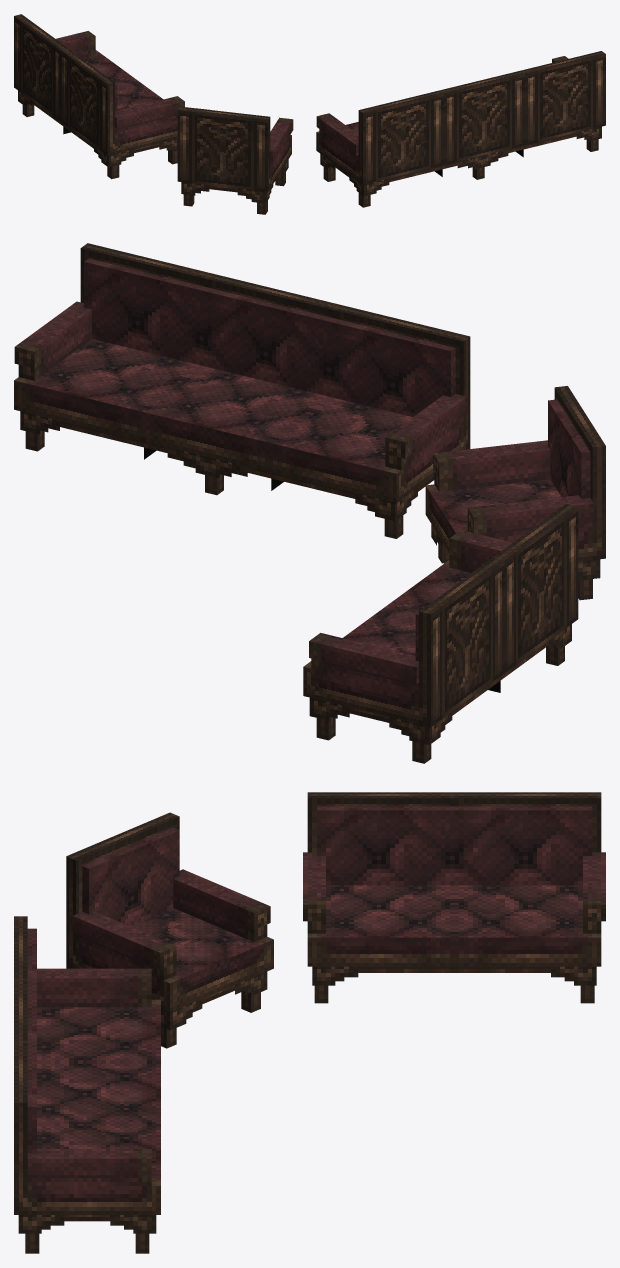
Rendered from antique_sofa.glb.
3 renders of one model, top to bottom at view 1: azimuth 30°, elevation 25°; view 2: azimuth 150°, elevation 25°; view 3: azimuth 270°, elevation 25°, orthographic. The views are drawn at different scales.
Parts seen in each view (by area): view 1: 6562eac3-8154-1e49-b262-1270529d0826_50, e2101837-5d9e-a3ac-9dd2-b4e75442bbab_23, 4eec5e98-ac9b-b999-b0b7-edd431b1ed05_40, 3c0e7e02-0666-183e-4b64-8a6c14ed690b_31, 1be15eaa-75be-9704-3bb4-f8ef53a918b7_5, 63edc0d0-5b0a-4a4c-43c2-24879114f62d_14, 893d6dfb-d45e-71c0-93e0-53b6f16a95af_6, 66ec53b0-9a2c-44aa-a571-0df395dfbb85_1, 5c201de3-8463-67f6-f706-b30159315af5_24, 6faef137-6ee9-64b8-39de-1000c4c6073c_19, b5054ddc-b1f3-3021-6fe4-26bd0a59a85b_44, b28e0ed2-6f99-8a0b-aa86-9a9b8f29d5e2_18 (+9 smaller); view 2: 3f0e8d56-cee6-ac99-dda2-36852af470f4_32, 5c201de3-8463-67f6-f706-b30159315af5_24, 11632f7a-37ba-4cd2-84d7-879c34fac159_41, 63edc0d0-5b0a-4a4c-43c2-24879114f62d_14, 1be15eaa-75be-9704-3bb4-f8ef53a918b7_5, d99f51fd-d483-47c9-8a18-31810df4f9fc_30, 2465d9fe-d4ac-6c7d-3af9-de3cc6857ad6_39, addd088b-f837-18d7-d043-6519ff9a9649_22, 712bf9bf-9a51-a01e-6526-e3faf94f44e4_15, ae79b2a6-8707-043b-dca4-b701e95d2f50_51, e2101837-5d9e-a3ac-9dd2-b4e75442bbab_23, bc3b2075-ae56-94e1-d523-c39ddb81b184_45 (+22 smaller); view 3: 893d6dfb-d45e-71c0-93e0-53b6f16a95af_6, 712bf9bf-9a51-a01e-6526-e3faf94f44e4_15, 1abdc5d6-72c6-7824-3d72-472f0ac5d846_13, 1c35ec67-7779-8615-569e-4d0efb87b9f5_4, ae79b2a6-8707-043b-dca4-b701e95d2f50_51, 3f0e8d56-cee6-ac99-dda2-36852af470f4_32, 11632f7a-37ba-4cd2-84d7-879c34fac159_41, 5c201de3-8463-67f6-f706-b30159315af5_24, b771599d-f0b3-f3ca-a718-5c6663e5add1_49, 1dd836f5-5c30-e70c-b2cf-ea8972dd789c_36, 6562eac3-8154-1e49-b262-1270529d0826_50, 6faef137-6ee9-64b8-39de-1000c4c6073c_19 (+20 smaller).
Boxes of the visible parts, bbox=[...] form: 6562eac3-8154-1e49-b262-1270529d0826_50: bbox=[177, 106, 270, 191]; e2101837-5d9e-a3ac-9dd2-b4e75442bbab_23: bbox=[358, 90, 443, 184]; 4eec5e98-ac9b-b999-b0b7-edd431b1ed05_40: bbox=[521, 51, 605, 145]; 3c0e7e02-0666-183e-4b64-8a6c14ed690b_31: bbox=[440, 70, 524, 164]; 1be15eaa-75be-9704-3bb4-f8ef53a918b7_5: bbox=[60, 48, 114, 155]; 63edc0d0-5b0a-4a4c-43c2-24879114f62d_14: bbox=[14, 14, 67, 121]; 893d6dfb-d45e-71c0-93e0-53b6f16a95af_6: bbox=[115, 83, 177, 153]; 66ec53b0-9a2c-44aa-a571-0df395dfbb85_1: bbox=[115, 96, 184, 128]; 5c201de3-8463-67f6-f706-b30159315af5_24: bbox=[316, 122, 358, 181]; 6faef137-6ee9-64b8-39de-1000c4c6073c_19: bbox=[316, 113, 358, 155]; b5054ddc-b1f3-3021-6fe4-26bd0a59a85b_44: bbox=[181, 159, 288, 203]; b28e0ed2-6f99-8a0b-aa86-9a9b8f29d5e2_18: bbox=[320, 154, 442, 196]; 3f0e8d56-cee6-ac99-dda2-36852af470f4_32: bbox=[141, 366, 330, 471]; 5c201de3-8463-67f6-f706-b30159315af5_24: bbox=[269, 397, 463, 502]; 11632f7a-37ba-4cd2-84d7-879c34fac159_41: bbox=[14, 339, 203, 440]; 63edc0d0-5b0a-4a4c-43c2-24879114f62d_14: bbox=[419, 557, 504, 726]; 1be15eaa-75be-9704-3bb4-f8ef53a918b7_5: bbox=[493, 503, 578, 672]; d99f51fd-d483-47c9-8a18-31810df4f9fc_30: bbox=[211, 289, 327, 394]; 2465d9fe-d4ac-6c7d-3af9-de3cc6857ad6_39: bbox=[84, 258, 199, 363]; addd088b-f837-18d7-d043-6519ff9a9649_22: bbox=[339, 321, 455, 416]; 712bf9bf-9a51-a01e-6526-e3faf94f44e4_15: bbox=[303, 613, 418, 723]; ae79b2a6-8707-043b-dca4-b701e95d2f50_51: bbox=[425, 479, 592, 561]; e2101837-5d9e-a3ac-9dd2-b4e75442bbab_23: bbox=[336, 305, 470, 449]; bc3b2075-ae56-94e1-d523-c39ddb81b184_45: bbox=[433, 440, 550, 479]; 893d6dfb-d45e-71c0-93e0-53b6f16a95af_6: bbox=[307, 885, 454, 966]; 712bf9bf-9a51-a01e-6526-e3faf94f44e4_15: bbox=[454, 885, 601, 966]; 1abdc5d6-72c6-7824-3d72-472f0ac5d846_13: bbox=[463, 806, 592, 885]; 1c35ec67-7779-8615-569e-4d0efb87b9f5_4: bbox=[317, 806, 445, 885]; ae79b2a6-8707-043b-dca4-b701e95d2f50_51: bbox=[76, 908, 273, 1012]; 3f0e8d56-cee6-ac99-dda2-36852af470f4_32: bbox=[37, 1061, 160, 1123]; 11632f7a-37ba-4cd2-84d7-879c34fac159_41: bbox=[27, 1123, 160, 1214]; 5c201de3-8463-67f6-f706-b30159315af5_24: bbox=[37, 999, 160, 1061]; b771599d-f0b3-f3ca-a718-5c6663e5add1_49: bbox=[82, 827, 179, 926]; 1dd836f5-5c30-e70c-b2cf-ea8972dd789c_36: bbox=[27, 1149, 151, 1175]; 6562eac3-8154-1e49-b262-1270529d0826_50: bbox=[66, 812, 179, 968]; 6faef137-6ee9-64b8-39de-1000c4c6073c_19: bbox=[37, 968, 151, 994].
Bounding box in the file's own units: 80.5 × 18.5 × 64.5.
6 materials, 6 textured.
